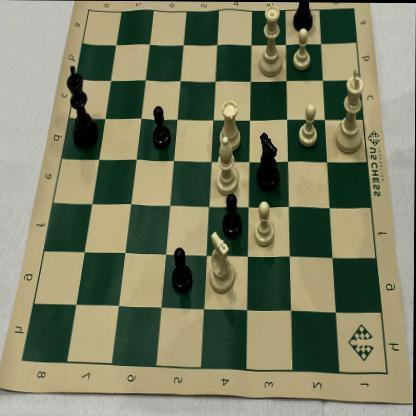black-king: (62, 61, 101, 151)
black-knight: (255, 127, 283, 196)
black-pawn: (169, 242, 195, 295), (220, 190, 245, 239), (150, 101, 174, 152)
black-rook: (292, 2, 314, 36)
white-bishop: (211, 135, 242, 198)
white-king: (331, 64, 368, 158)
white-knight: (206, 228, 238, 298)
white-pawn: (295, 101, 321, 149), (290, 24, 315, 73), (253, 199, 276, 252)
white-queen: (255, 1, 287, 80)
white-rook: (217, 97, 243, 155)
